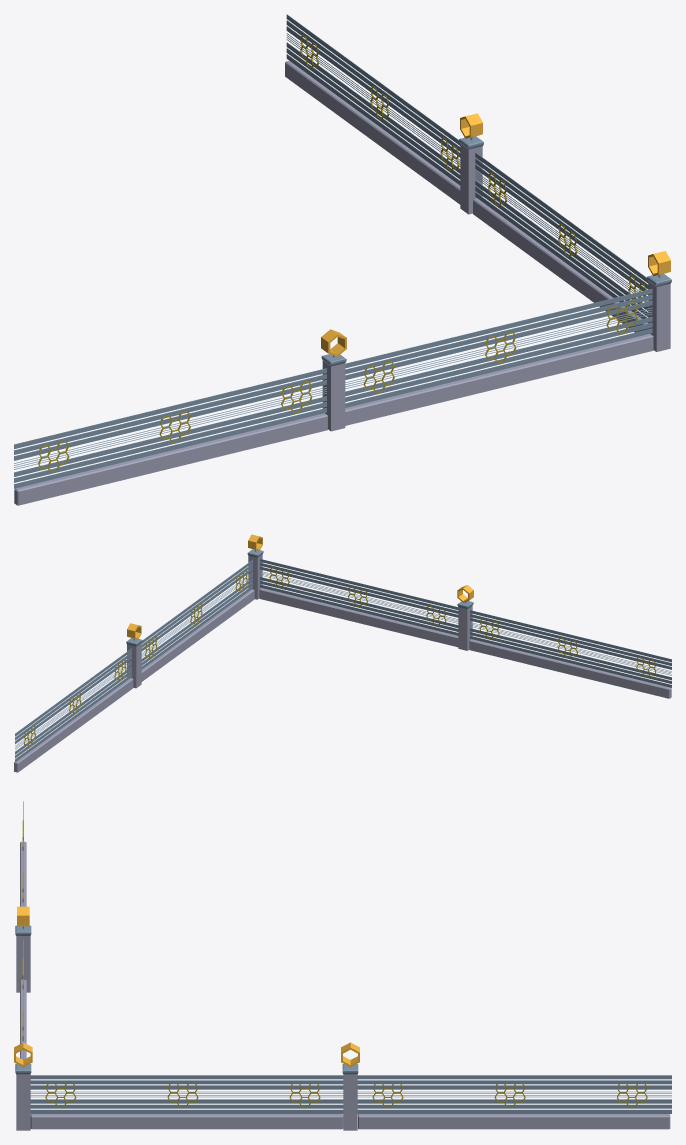
The model's file is fence_corner.fbx.
3 renders of one model, top to bottom at view 1: azimuth 30°, elevation 25°; view 2: azimuth 150°, elevation 25°; view 3: azimuth 270°, elevation 25°, orthographic. The views are drawn at different scales.
Parts seen in each view (by area): view 1: fence_corner; view 2: fence_corner; view 3: fence_corner.
Boxes of the visible parts, box(x1,y1,x2,y2) form: fence_corner: box(14, 14, 671, 505); fence_corner: box(14, 534, 671, 772); fence_corner: box(14, 801, 671, 1130).
Size of the model in its own units: 1081 by 150 by 1084.
